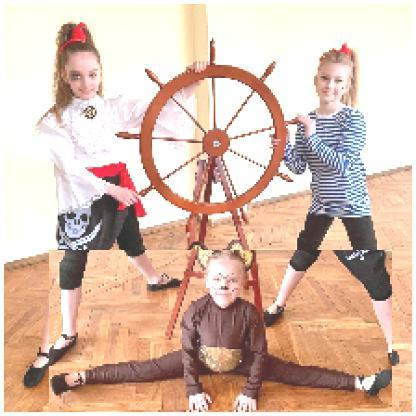child: (50, 251, 394, 412)
